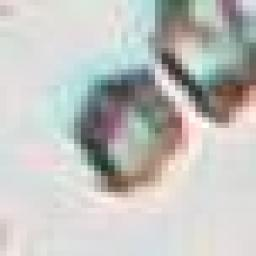crystals: (70, 62, 189, 198)
